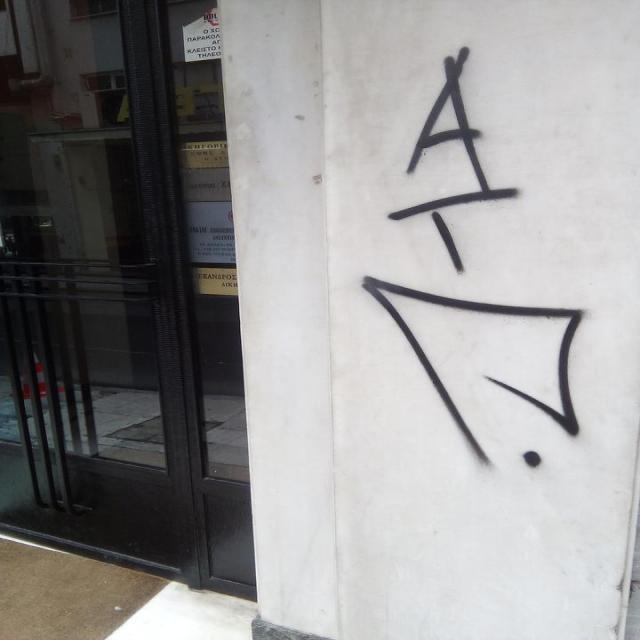nonspitting: (361, 46, 585, 468)
